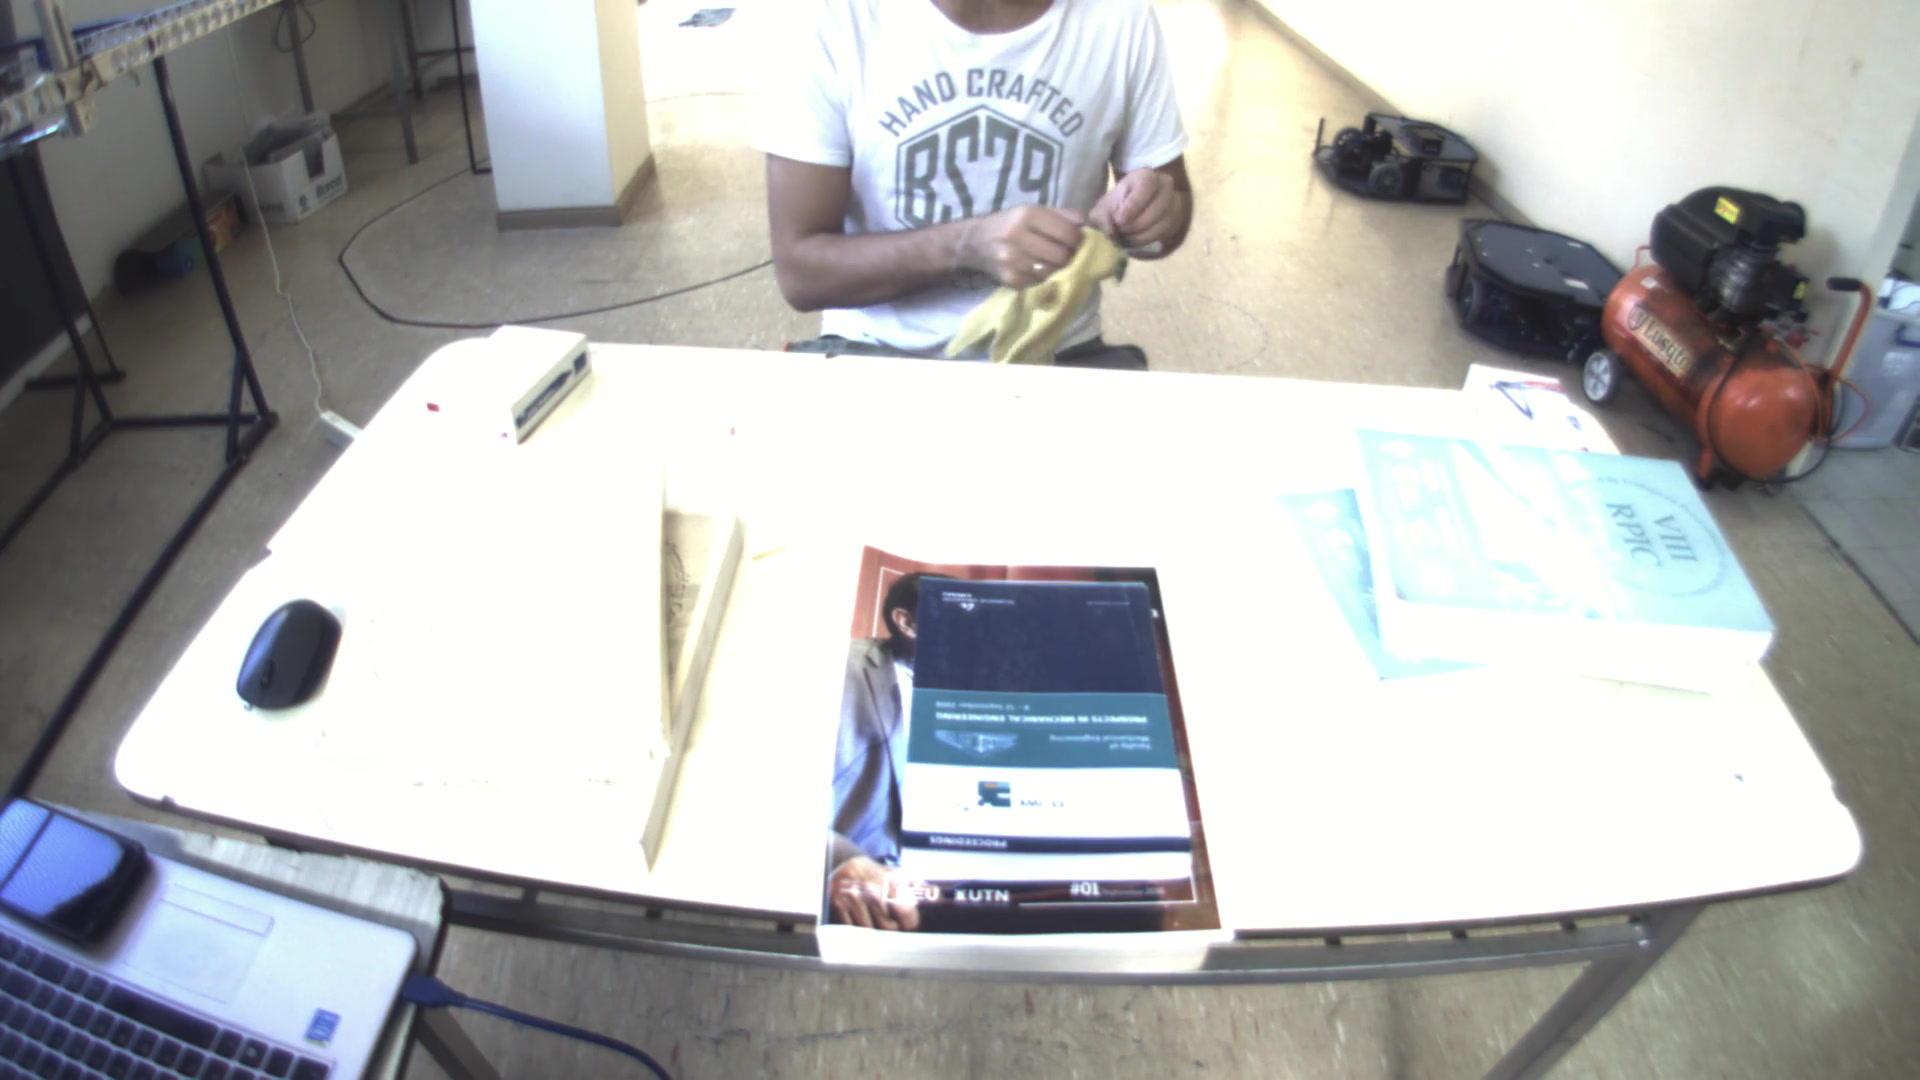hand: (934, 196, 1081, 298), (1093, 156, 1196, 245)
